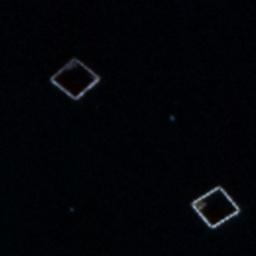square_solid: (186, 176, 245, 233), (49, 55, 104, 106)
